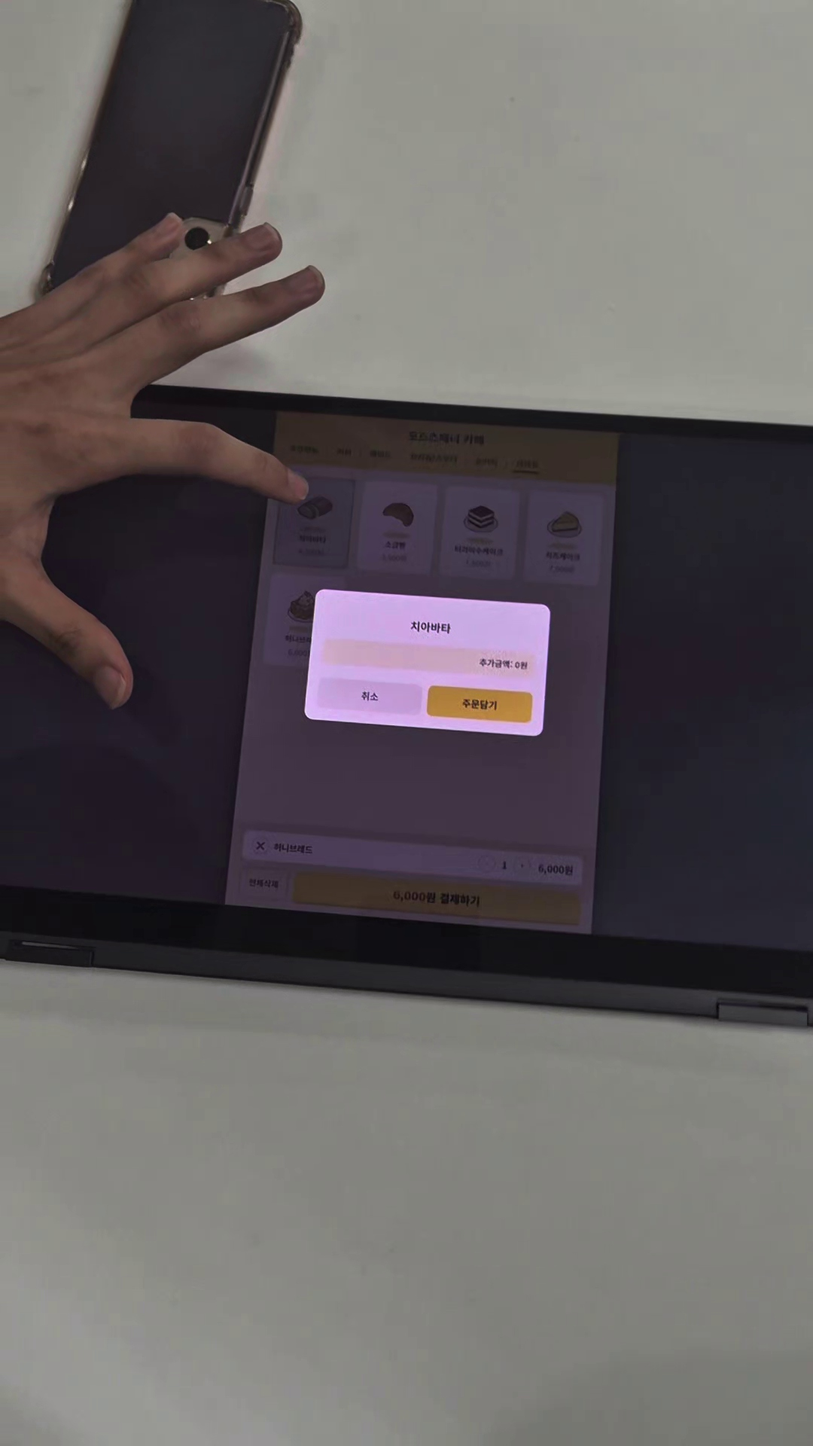action_button: (294, 872, 582, 925), (426, 684, 533, 723), (317, 677, 423, 715), (240, 870, 288, 899)
cart_item: (242, 831, 583, 885)
menu_back: (262, 572, 347, 671), (354, 480, 437, 576), (273, 473, 355, 569), (438, 485, 520, 581), (524, 491, 606, 587)
menu_name: (409, 619, 453, 636), (272, 841, 314, 858), (452, 544, 504, 557), (545, 551, 582, 563), (384, 540, 406, 551)
menu_price: (536, 859, 575, 879), (285, 647, 311, 661), (464, 557, 493, 569), (548, 563, 576, 574), (381, 553, 407, 564)
popup_modal: (303, 589, 550, 737)
